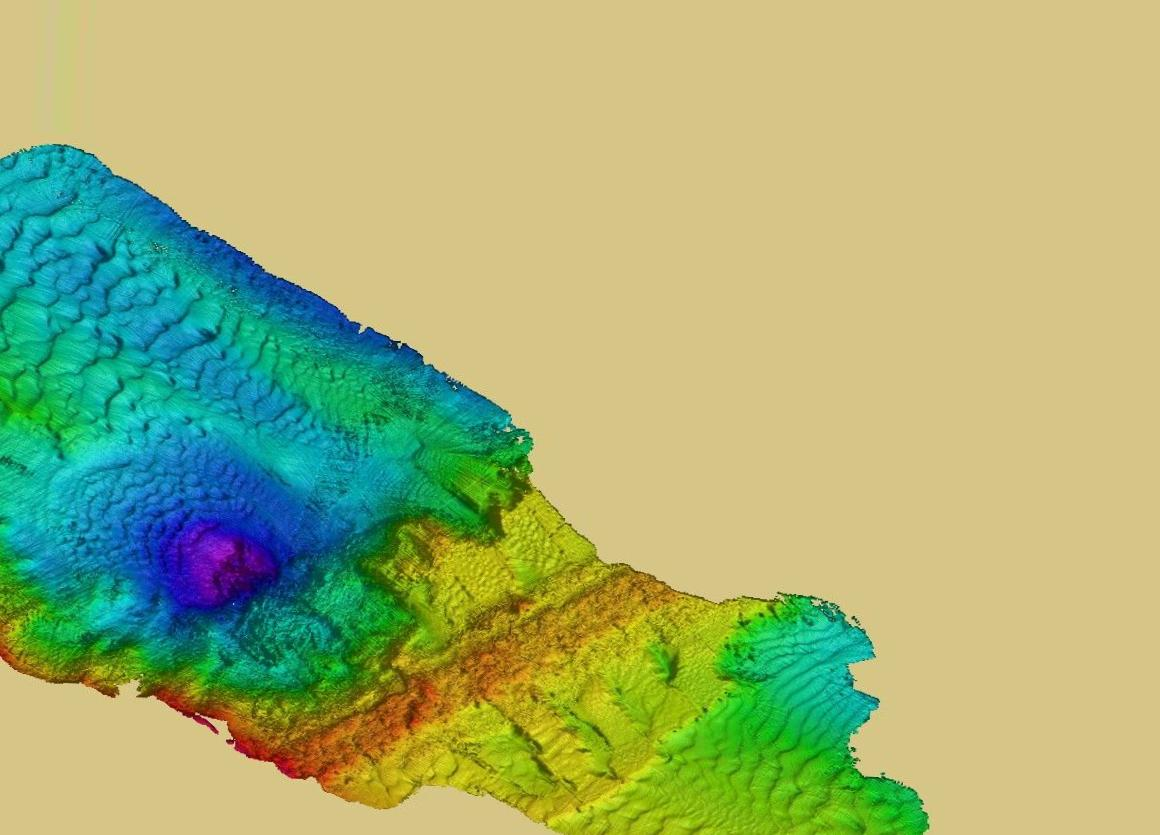Dune: (1, 163, 120, 352), (98, 265, 253, 405), (661, 738, 870, 825), (10, 362, 184, 462), (73, 464, 178, 564), (751, 636, 832, 758)
Scarp: (7, 627, 298, 799)
Scour pit: (159, 518, 309, 616)
Submerged dike: (244, 650, 500, 803), (458, 553, 692, 706)
